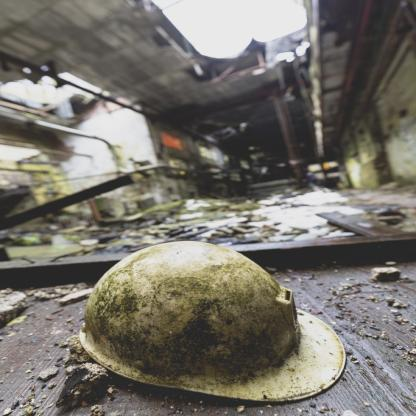Helmet: (81, 251, 318, 407)
